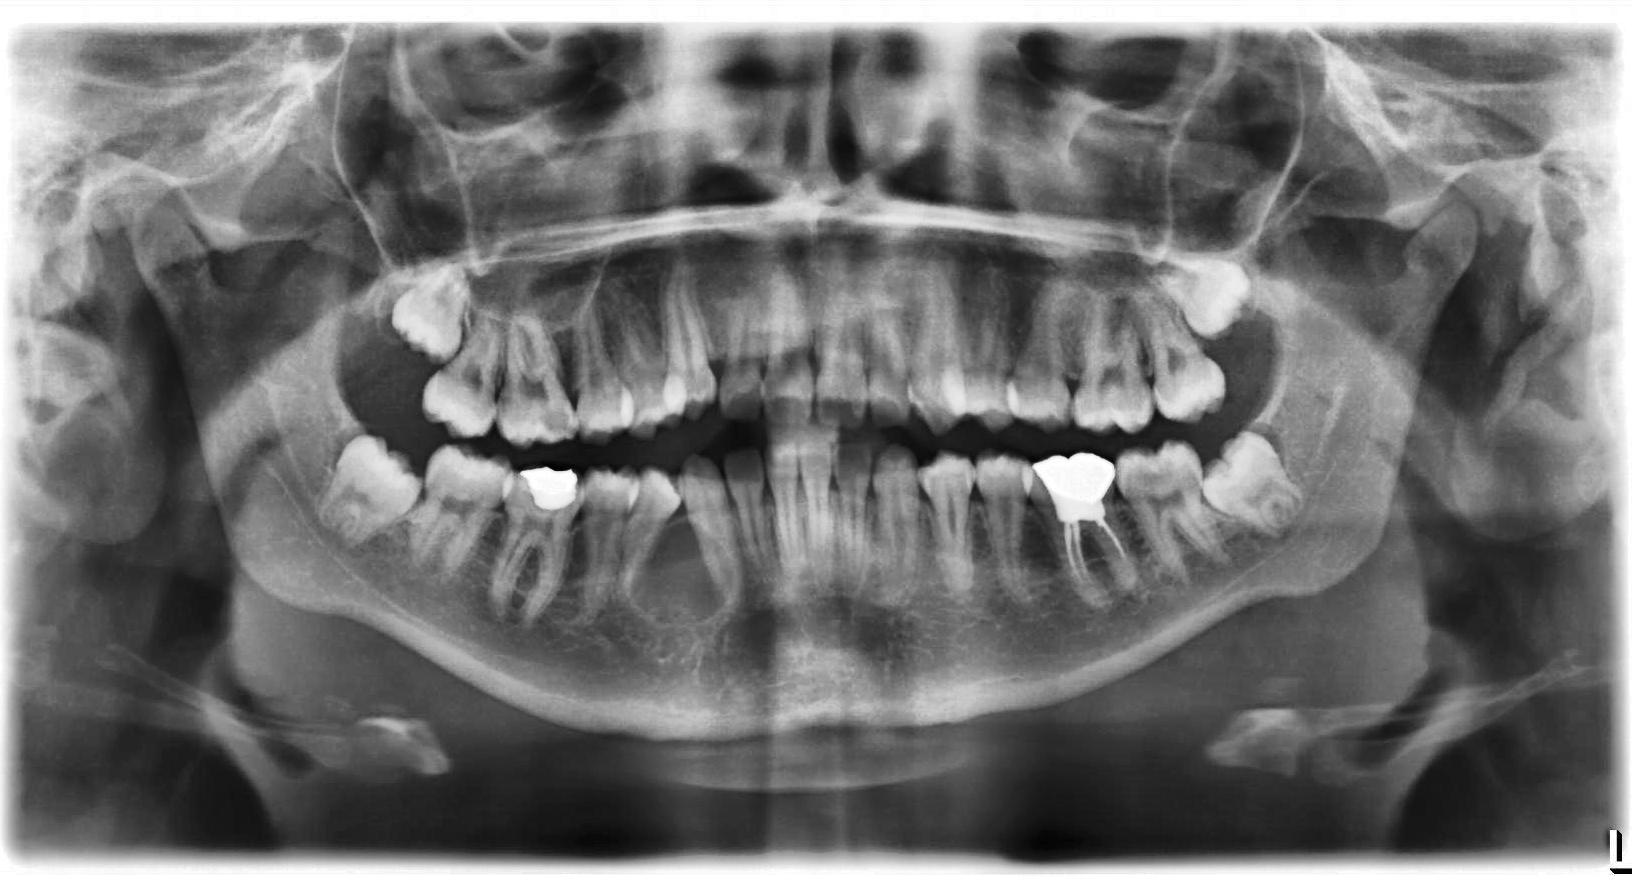keratokist: (630, 516, 736, 627)
